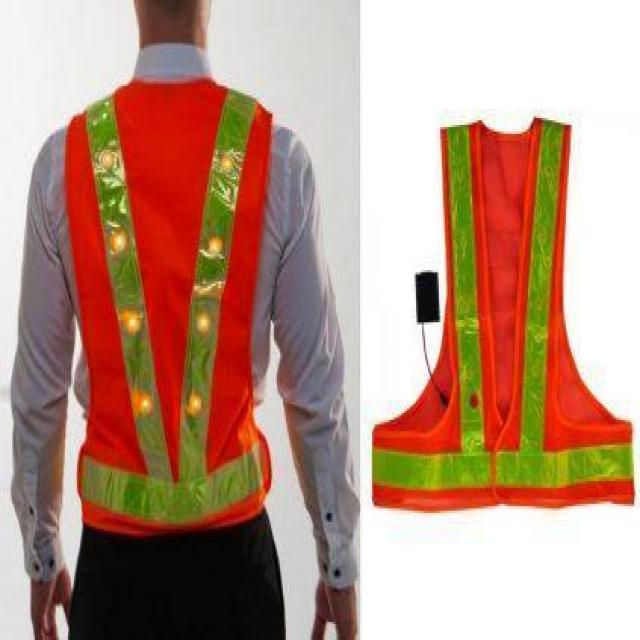Vest: (370, 122, 636, 513), (64, 80, 276, 536)
